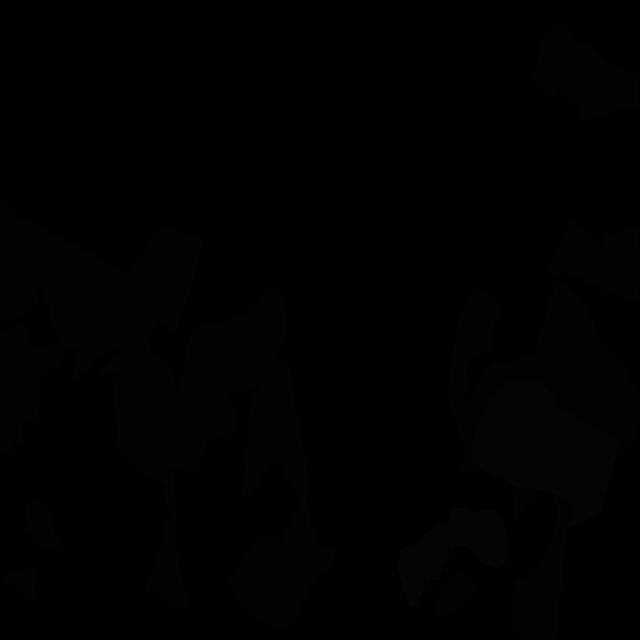cardboard: (0, 221, 287, 610), (448, 282, 640, 472), (228, 442, 335, 630), (533, 21, 639, 122), (510, 495, 572, 640), (243, 359, 306, 499), (130, 228, 204, 334), (546, 220, 640, 303), (0, 199, 39, 320), (21, 501, 65, 554), (436, 572, 476, 616), (2, 566, 36, 601), (513, 489, 542, 524)
soft_plastic: (472, 377, 621, 527), (398, 507, 508, 607)
